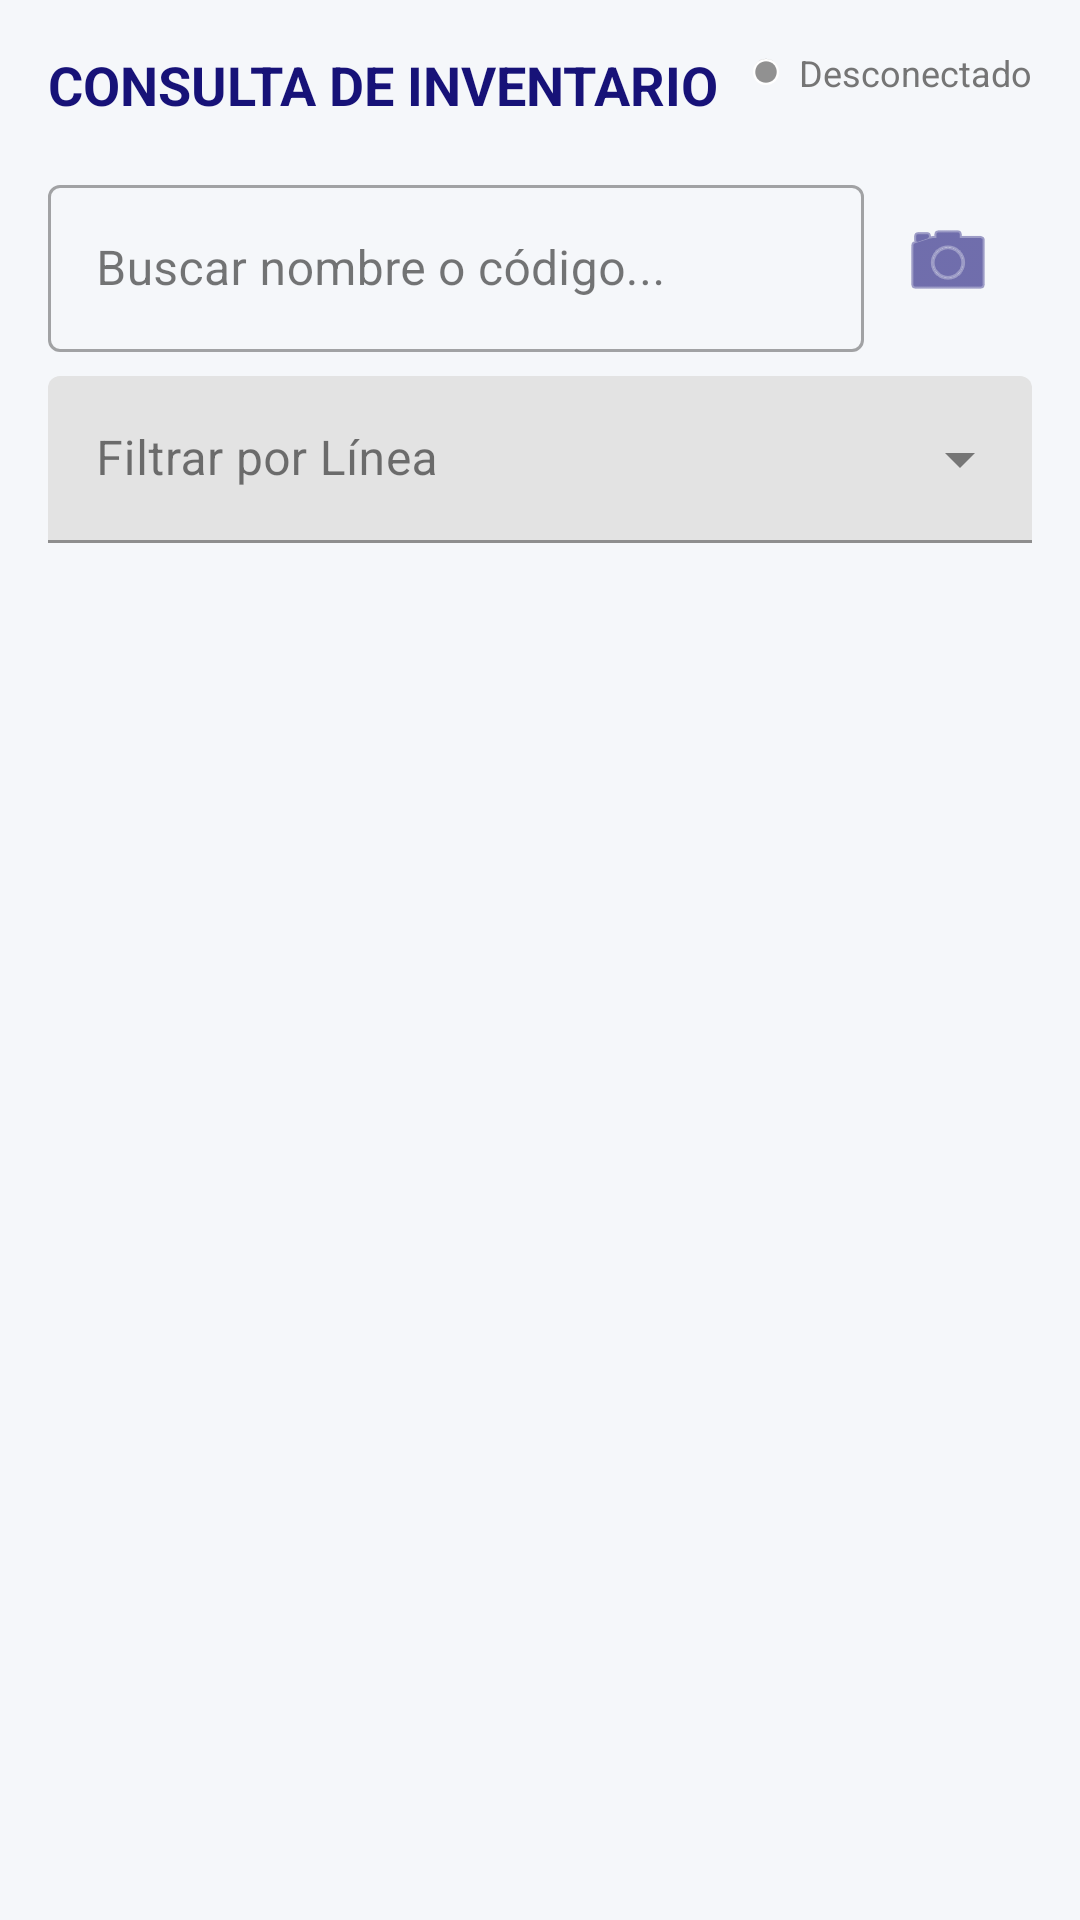

Where to tap for icons on this 1080w x 1920h app screen, as (x=x, y=y):
camera: (x=948, y=259)
